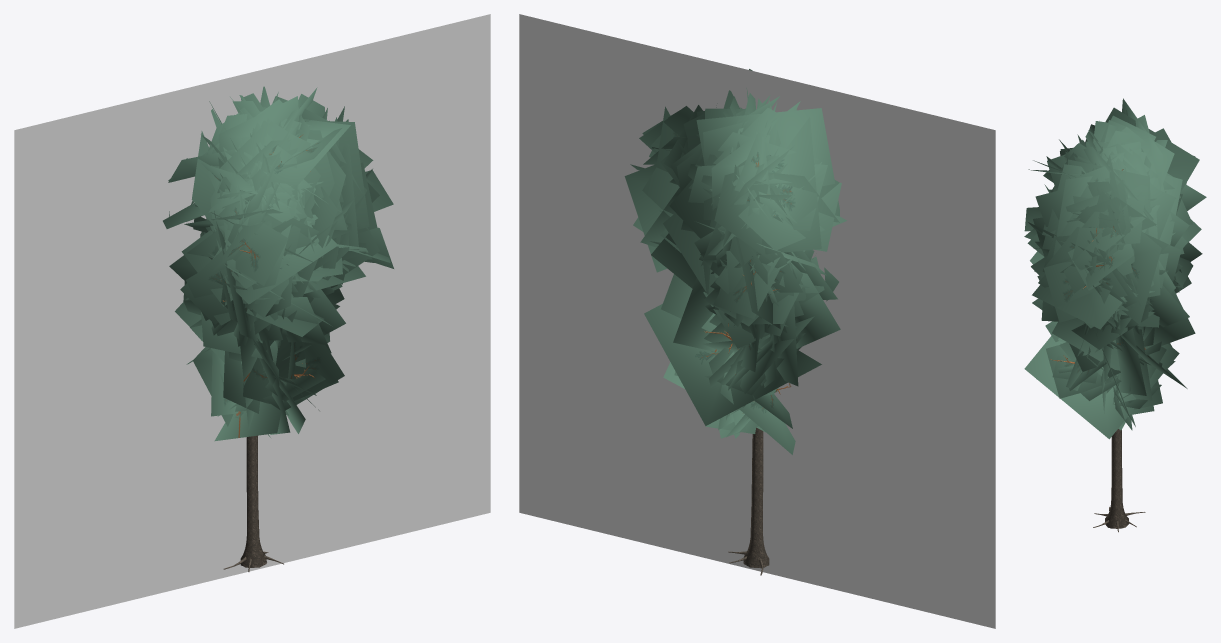
The model's file is pin_adulte_c.fbx.
3 views of the same model, side by side, from view 1: azimuth 30°, elevation 25°; view 2: azimuth 150°, elevation 25°; view 3: azimuth 270°, elevation 25° (orthographic). The views are drawn at different scales.
Visible parts, largest first — view 1: pin_adulte_c_LOD3, pin_adulte_c_LOD2, pin_adulte_c_LOD1; view 2: pin_adulte_c_LOD3, pin_adulte_c_LOD2, pin_adulte_c_LOD1; view 3: pin_adulte_c_LOD2, pin_adulte_c_LOD1.
Boxes of the visible parts, left/top/right/bottom form: pin_adulte_c_LOD3: left=14, top=14, right=490, bottom=628; pin_adulte_c_LOD2: left=163, top=87, right=390, bottom=571; pin_adulte_c_LOD1: left=169, top=86, right=393, bottom=571; pin_adulte_c_LOD3: left=519, top=14, right=995, bottom=628; pin_adulte_c_LOD2: left=624, top=69, right=846, bottom=575; pin_adulte_c_LOD1: left=630, top=88, right=839, bottom=575; pin_adulte_c_LOD2: left=1024, top=98, right=1206, bottom=531; pin_adulte_c_LOD1: left=1024, top=115, right=1193, bottom=531.
Size of what is drawn, in the model's own units: 26.96 by 26.96 by 10.65.
